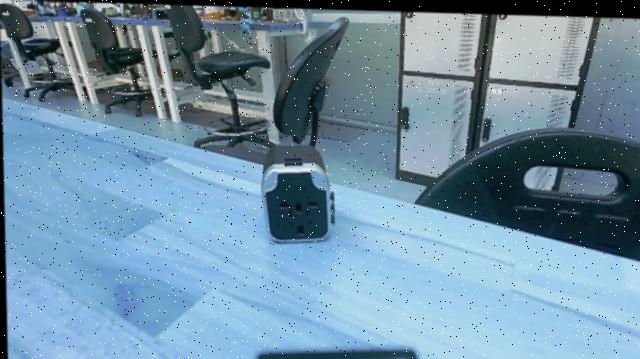adapter: (256, 139, 338, 253)
